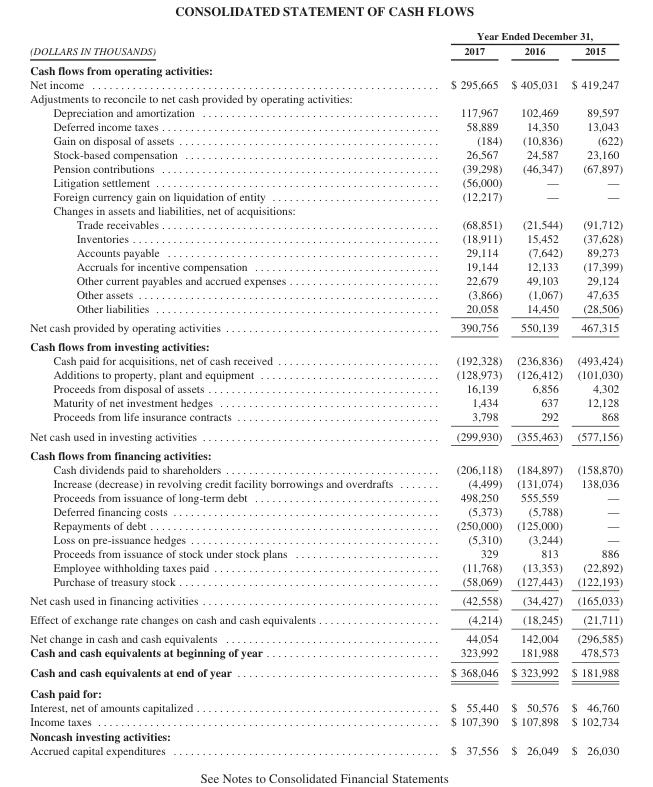table: (29, 29, 622, 756)
table column: (29, 29, 421, 756), (421, 29, 505, 756), (505, 29, 566, 756), (566, 29, 622, 756)
table column header: (29, 29, 622, 59)
table projected row header: (29, 682, 622, 700), (29, 59, 622, 76), (29, 336, 622, 353), (29, 445, 622, 461), (29, 90, 622, 104), (29, 202, 622, 216), (29, 728, 622, 742)
table row: (29, 661, 622, 682), (29, 317, 622, 336), (29, 426, 622, 445), (29, 590, 622, 609), (29, 609, 622, 628), (29, 682, 622, 700), (29, 59, 622, 76), (29, 300, 622, 317), (29, 336, 622, 353), (29, 409, 622, 426), (29, 573, 622, 590), (29, 628, 622, 645), (29, 43, 622, 59), (29, 445, 622, 461), (29, 645, 622, 661), (29, 29, 622, 43), (29, 76, 622, 90), (29, 90, 622, 104), (29, 104, 622, 118), (29, 118, 622, 132), (29, 132, 622, 146), (29, 146, 622, 160), (29, 160, 622, 174), (29, 174, 622, 188), (29, 188, 622, 202), (29, 202, 622, 216), (29, 216, 622, 230), (29, 230, 622, 244), (29, 244, 622, 258), (29, 258, 622, 272), (29, 272, 622, 286), (29, 286, 622, 300), (29, 353, 622, 367), (29, 367, 622, 381), (29, 381, 622, 395), (29, 395, 622, 409), (29, 461, 622, 475), (29, 475, 622, 489), (29, 489, 622, 503), (29, 503, 622, 517), (29, 517, 622, 531), (29, 531, 622, 545), (29, 545, 622, 559), (29, 559, 622, 573), (29, 700, 622, 714), (29, 714, 622, 728), (29, 728, 622, 742), (29, 742, 622, 756)
table spanning cell: (29, 29, 421, 59), (421, 29, 622, 43)
